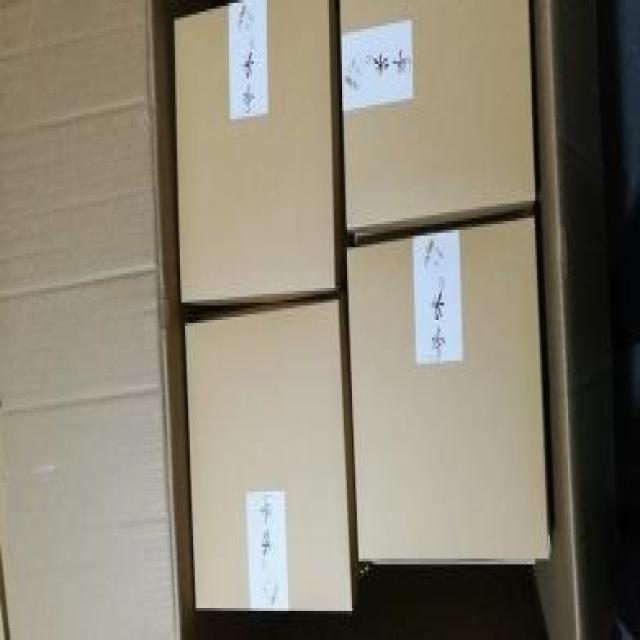box: (347, 215, 549, 566), (185, 294, 354, 613), (175, 0, 337, 304), (339, 0, 537, 232)
